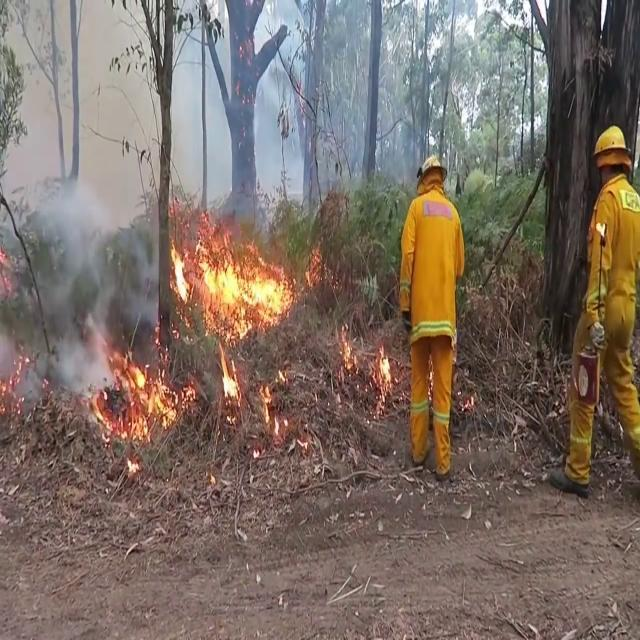Fire: (166, 231, 292, 337), (101, 337, 177, 445), (0, 340, 38, 414), (373, 340, 394, 402)
Smoke: (0, 57, 145, 420)
